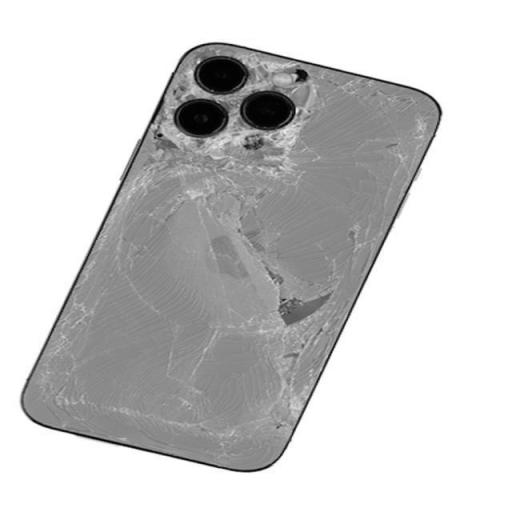phone: (20, 39, 441, 470)
